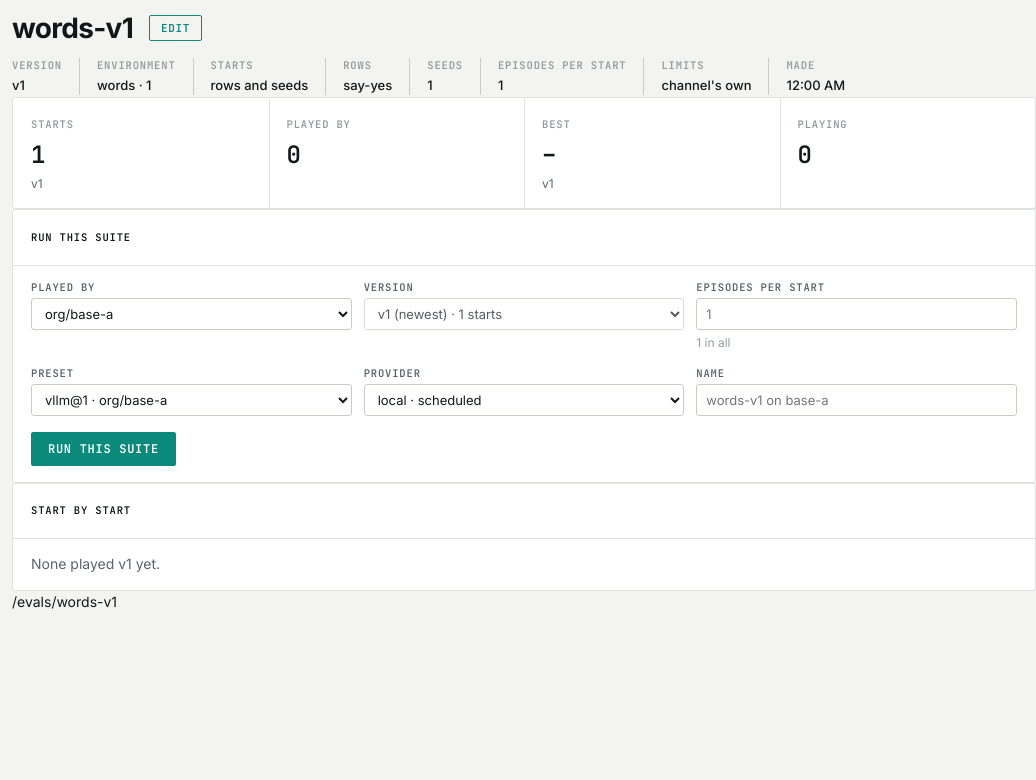
Test case: a suite's eval form › offers the cluster's base models to play it, and a preset whose model is the one chosen
Expected: the dropdown labelled "Preset" shows "vllm@1 · org/base-a", [31, 384, 352, 416]
Select "org/elsewhere" in the dropdown labelled "Played by" at point(191, 314), box [31, 298, 352, 330]
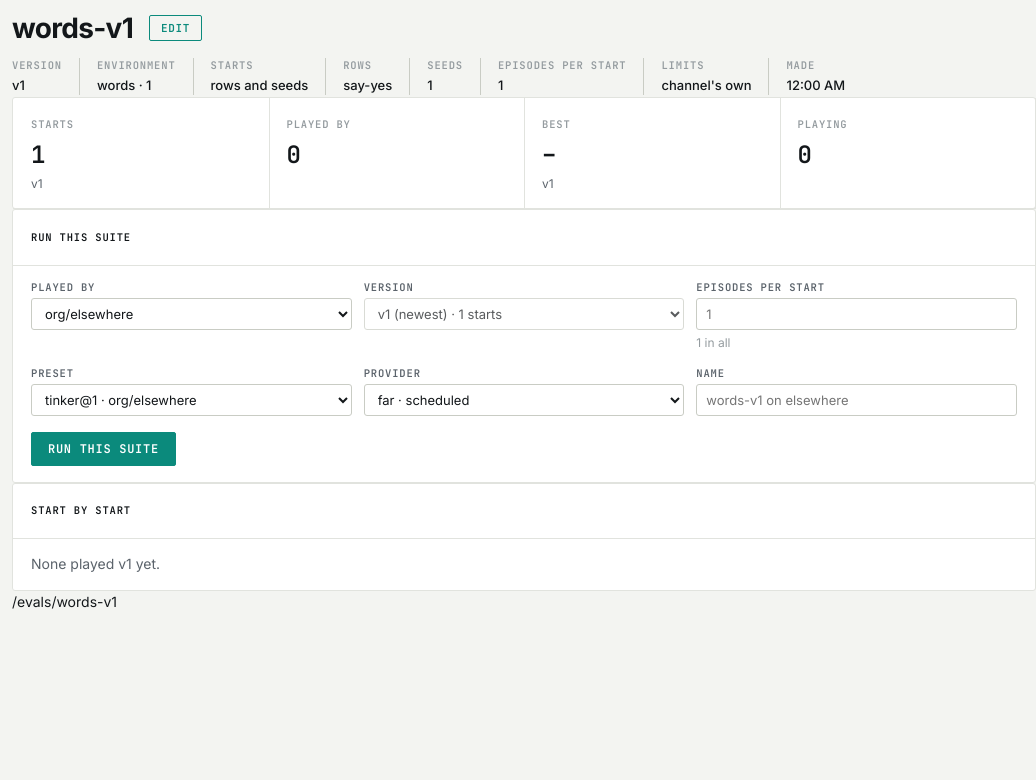
Result: the dropdown labelled "Preset" shows "tinker@1 · org/elsewhere" at [31, 384, 352, 416]
